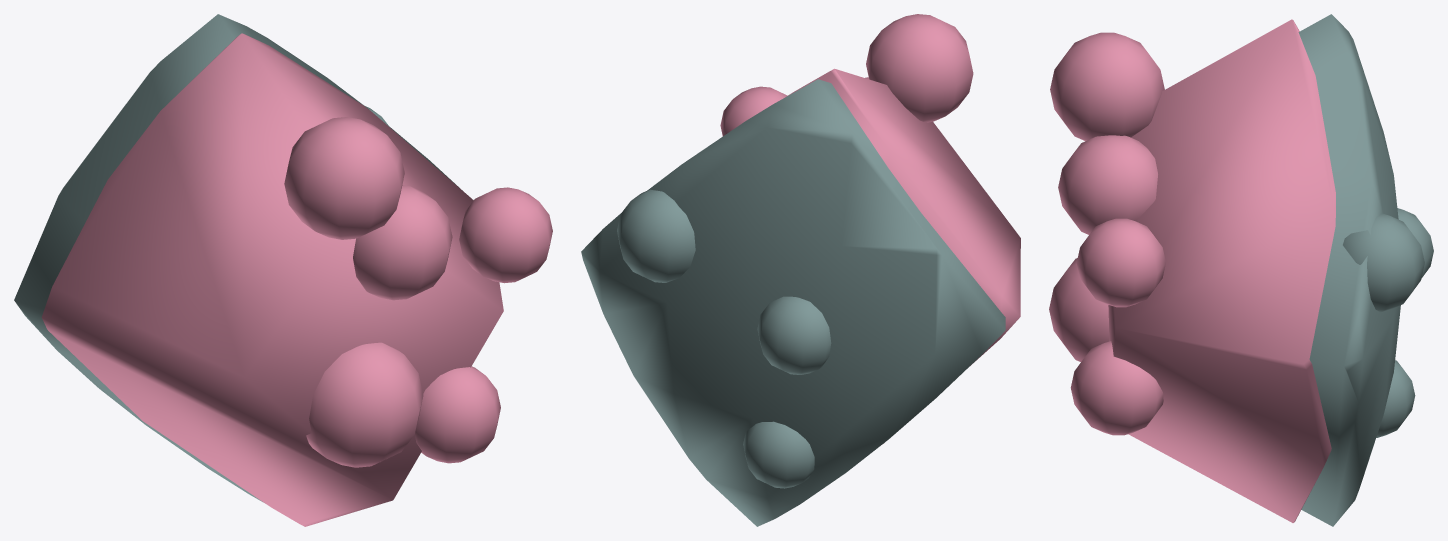
Rendered from chunk20.glb.
3 views of the same model, side by side, from view 1: azimuth 30°, elevation 25°; view 2: azimuth 150°, elevation 25°; view 3: azimuth 270°, elevation 25° (orthographic). The views are drawn at different scales.
Visible parts, largest first — view 1: flesh, skin; view 2: skin, flesh; view 3: flesh, skin.
Part boxes in pixels (x1,y1,x2,y2): flesh: (41, 33, 552, 526); skin: (14, 14, 462, 502); skin: (581, 79, 1005, 526); flesh: (720, 14, 1020, 365); flesh: (1049, 19, 1335, 522); skin: (1298, 14, 1433, 526).
Bounding box in the file's own units: 0.8537 × 0.9063 × 0.6555.
